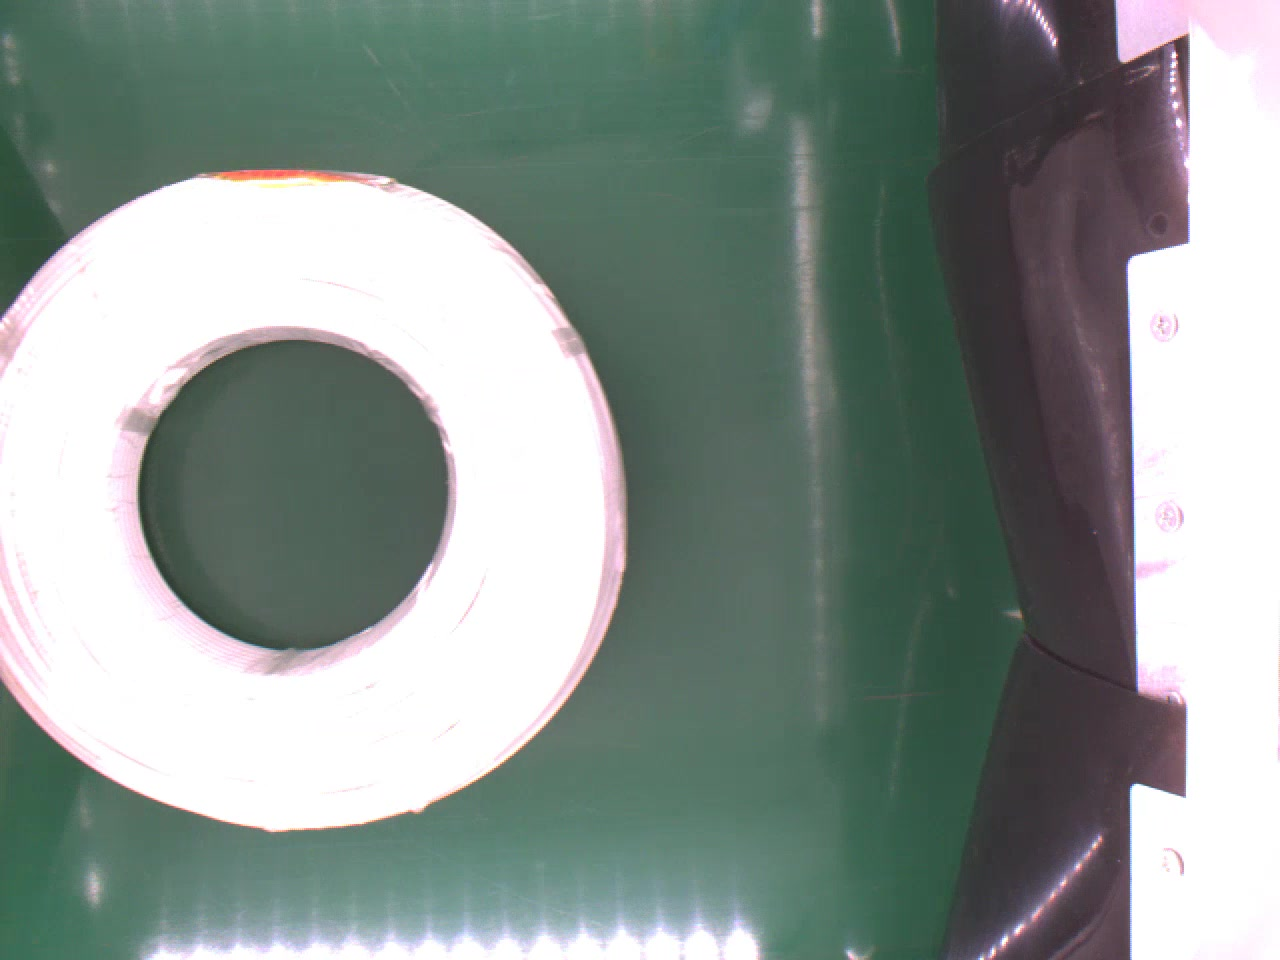white: (0, 161, 625, 831)
